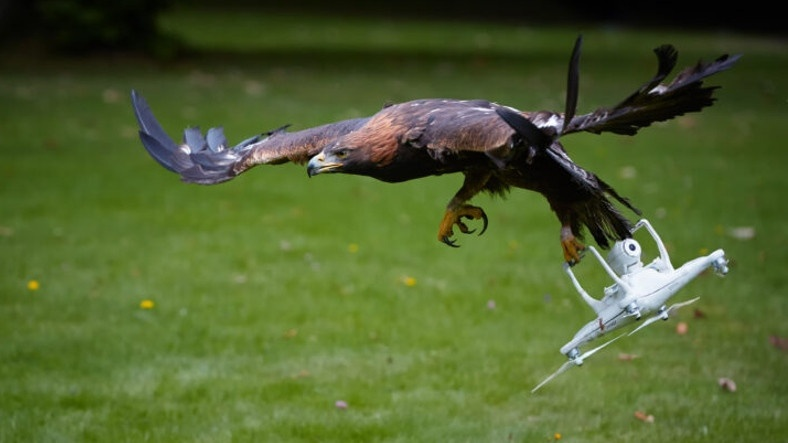Bird: (106, 43, 756, 263)
UAV: (529, 217, 729, 393)
